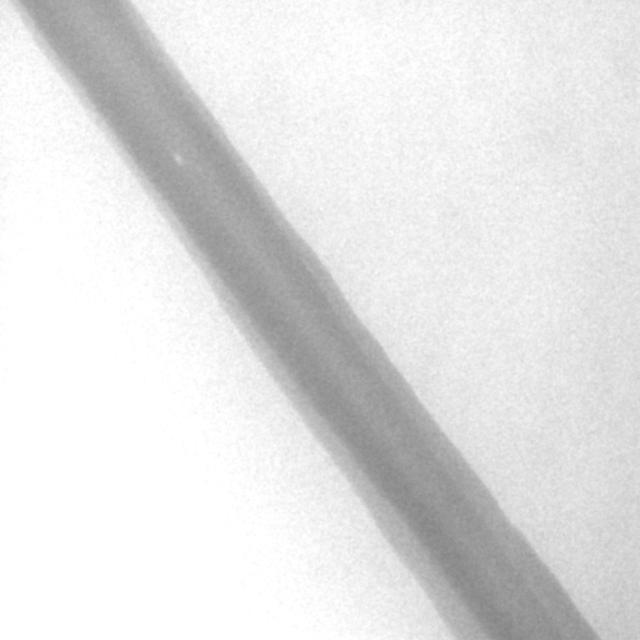air hole: (170, 151, 183, 168)
